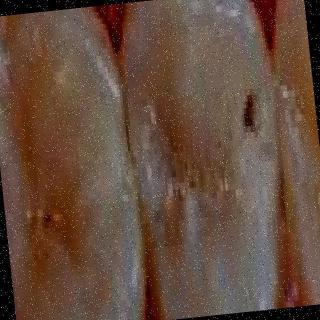cavities: (198, 72, 274, 156)
